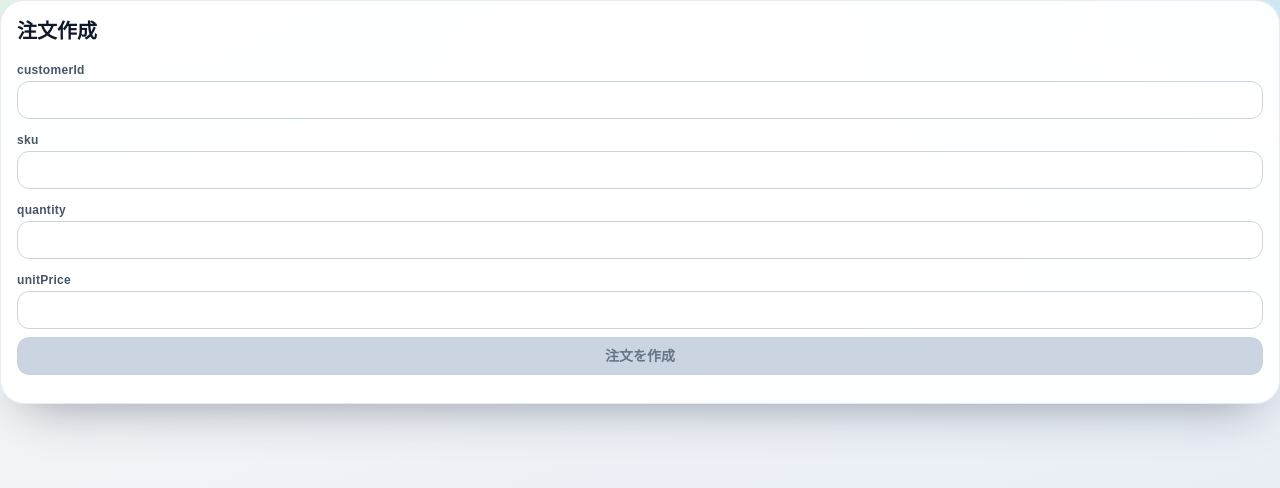
Test: OrderCreateForm › 409のとき価格不一致エラーを表示する
Step 1. Type "c-1" into the field labelled "customerId" → (640, 100), box [17,81,1263,119]
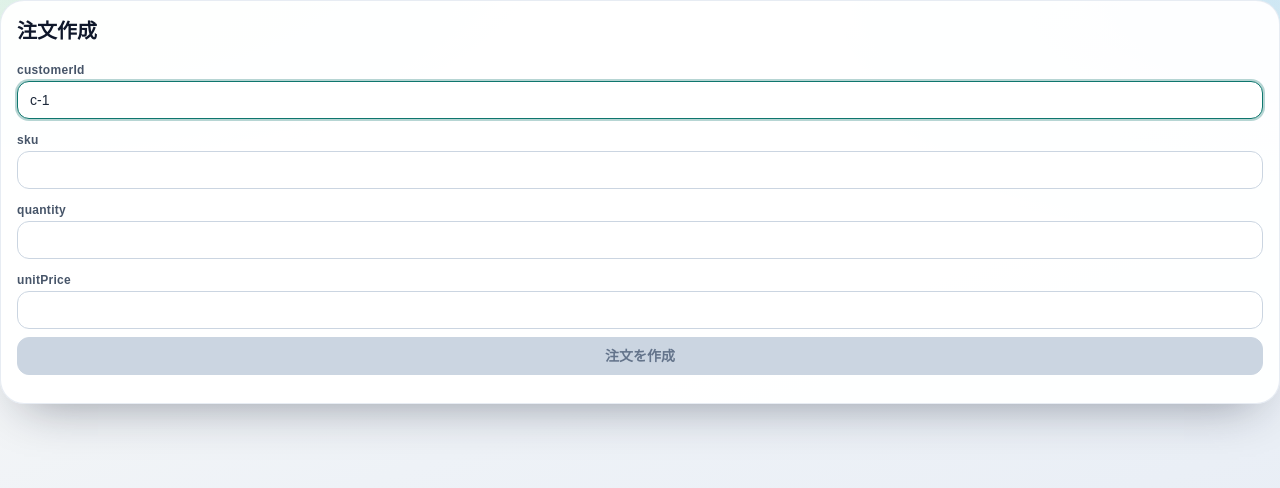
Step 2. Type "sku-1" into the field labelled "sku" → (640, 170), box [17,151,1263,189]
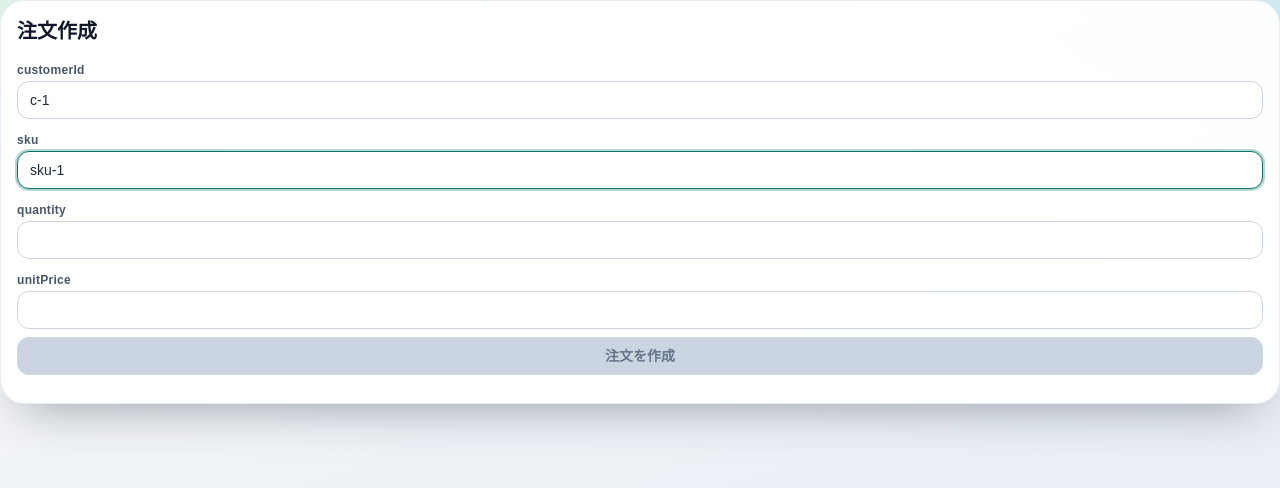
Step 3. Type "1" into the number field labelled "quantity" → (640, 240), box [17,221,1263,259]
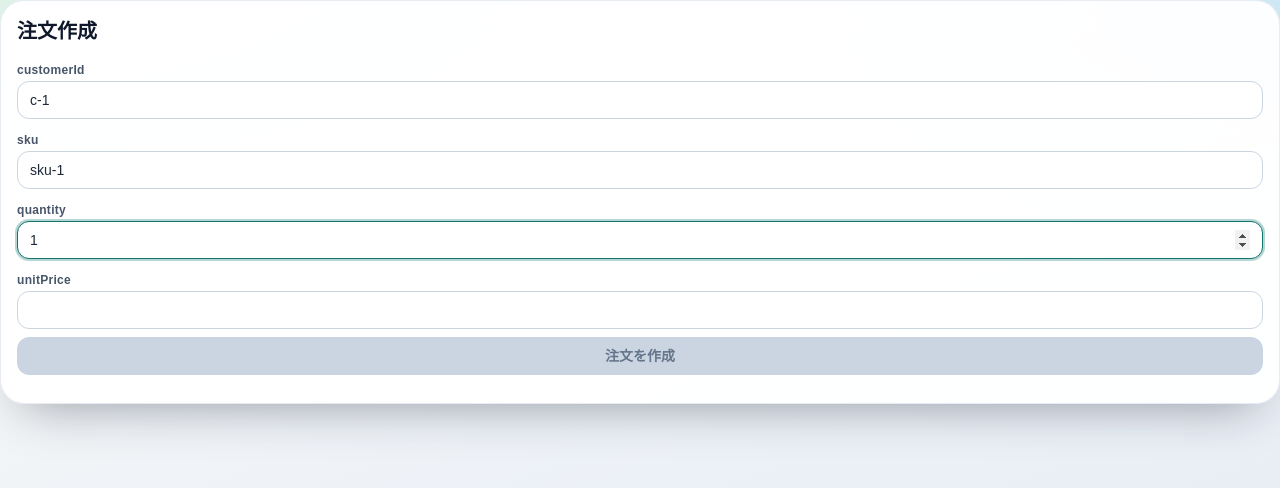
Step 4. Type "100" into the number field labelled "unitPrice" → (640, 310), box [17,291,1263,329]
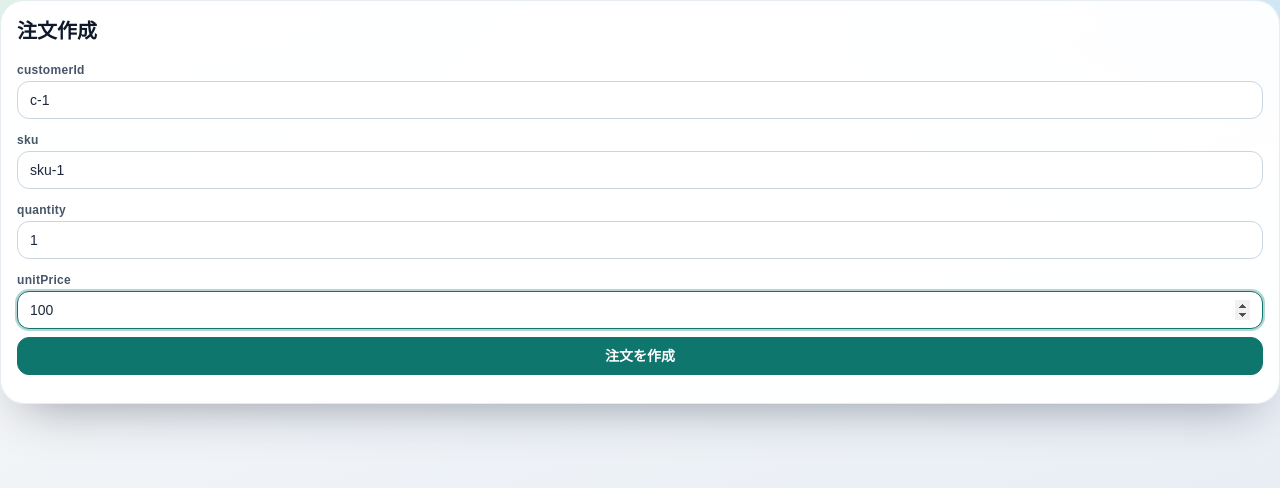
Step 5. Click the button "注文を作成" → (640, 356), box [17,337,1263,375]
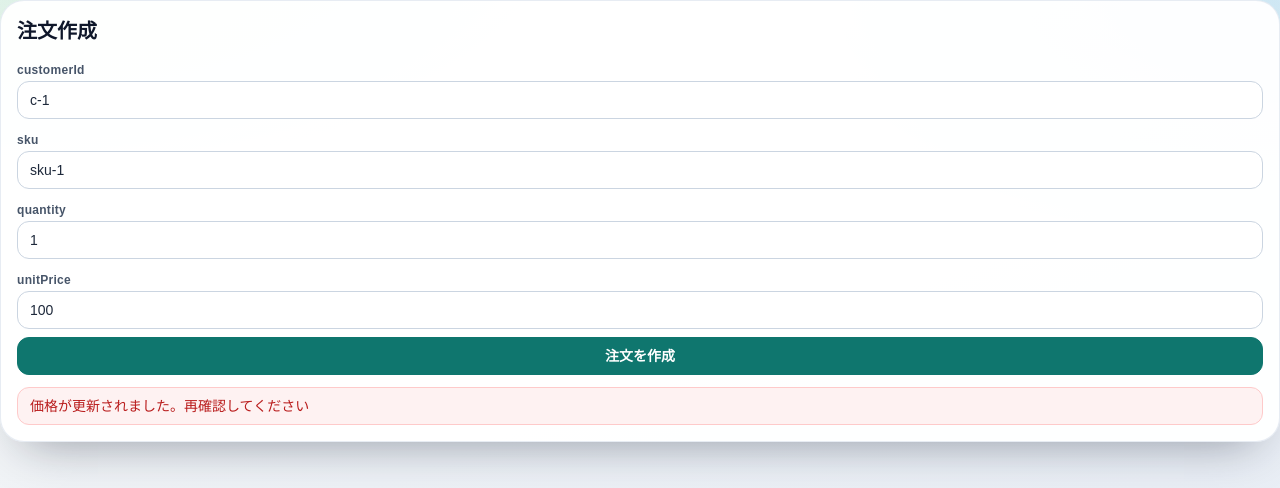
Expected: the text "価格が更新されました。再確認してください" is shown, [17,387,1263,425]
